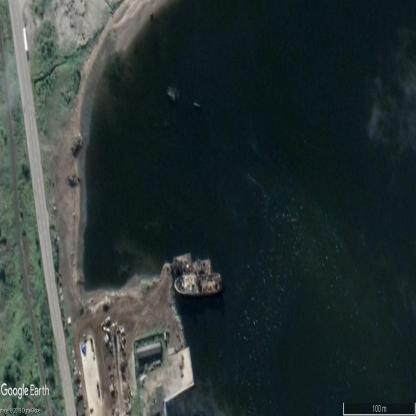ship: (172, 272, 222, 296)
